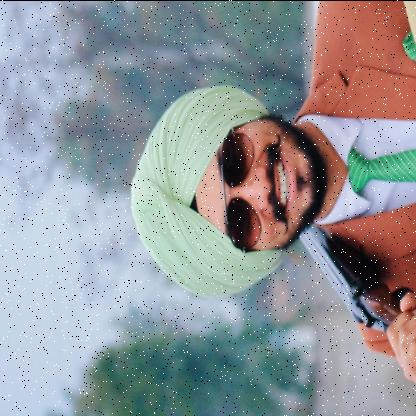rifle: (298, 219, 416, 335)
